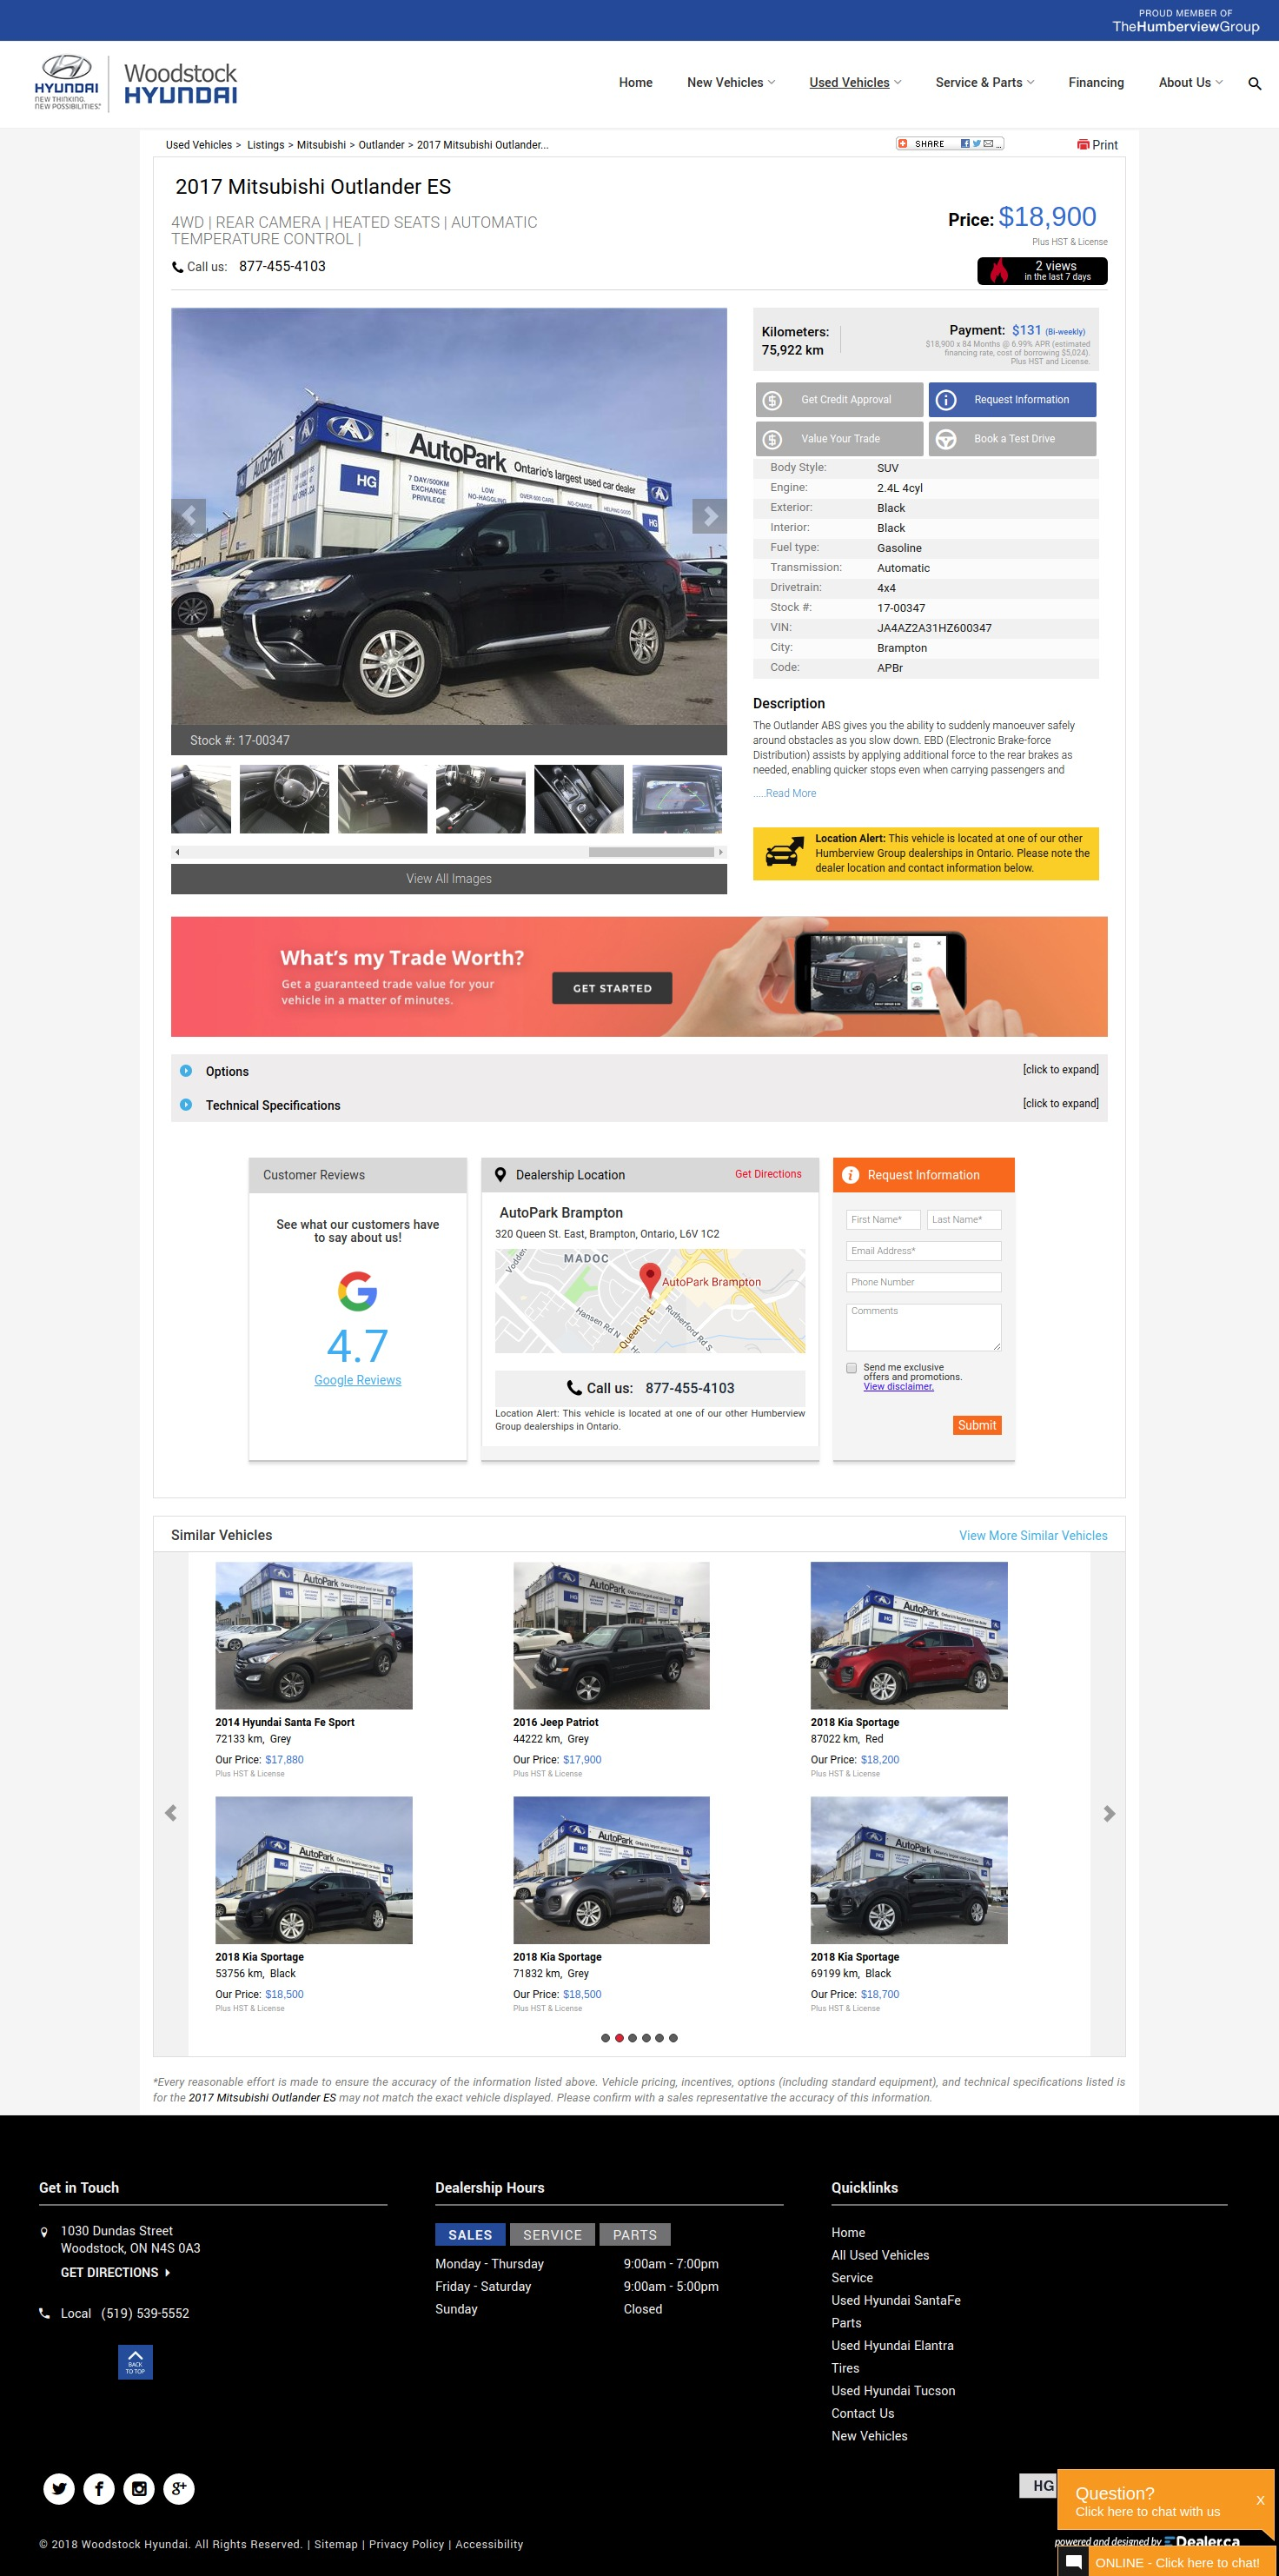car: (704, 506, 721, 527)
